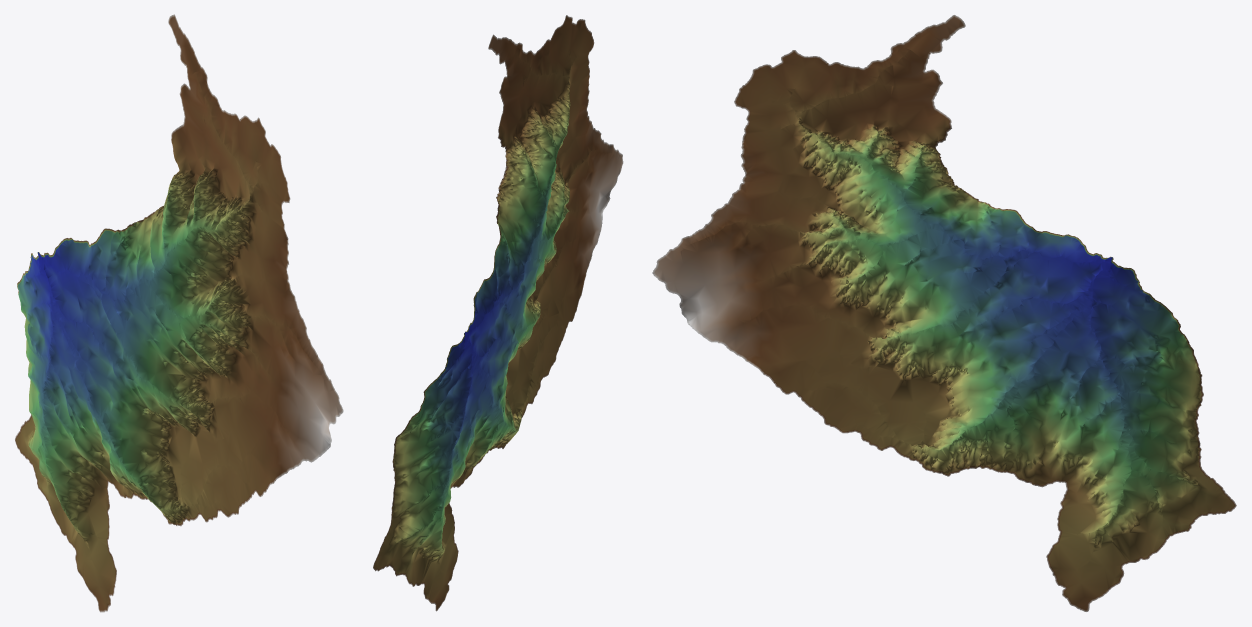
The model's file is out_examplebasin_Z.gltf.
The picture shows the model from 3 angles, left to right: view 1: azimuth 30°, elevation 25°; view 2: azimuth 150°, elevation 25°; view 3: azimuth 270°, elevation 25°; orthographic projection. The views are drawn at different scales.
Visible parts, largest first — view 1: Renderer Node; view 2: Renderer Node; view 3: Renderer Node.
Part boxes in pixels (x1,y1,x2,y2): Renderer Node: (15,14,343,612); Renderer Node: (373,15,623,611); Renderer Node: (652,15,1236,611).
Size of the model in its own units: 781 by 7757 by 6860.
1 material, 1 textured.
